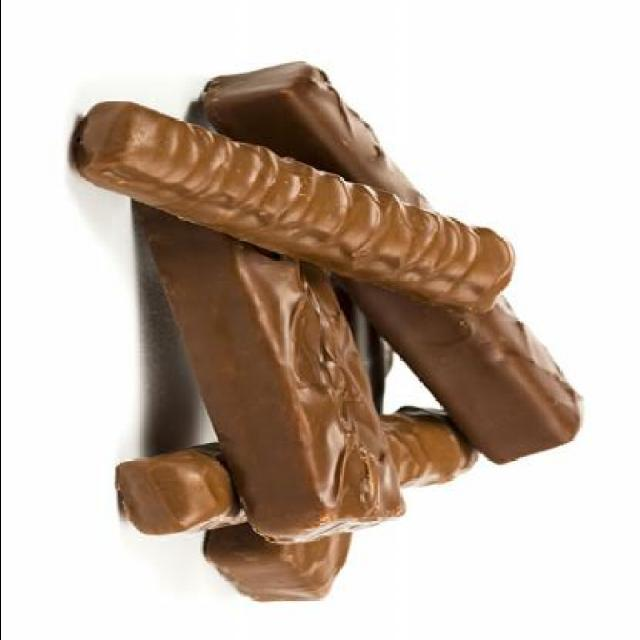Chocolate bar packaged: (202, 60, 584, 466), (130, 117, 408, 546), (59, 99, 516, 316), (114, 406, 483, 540)
